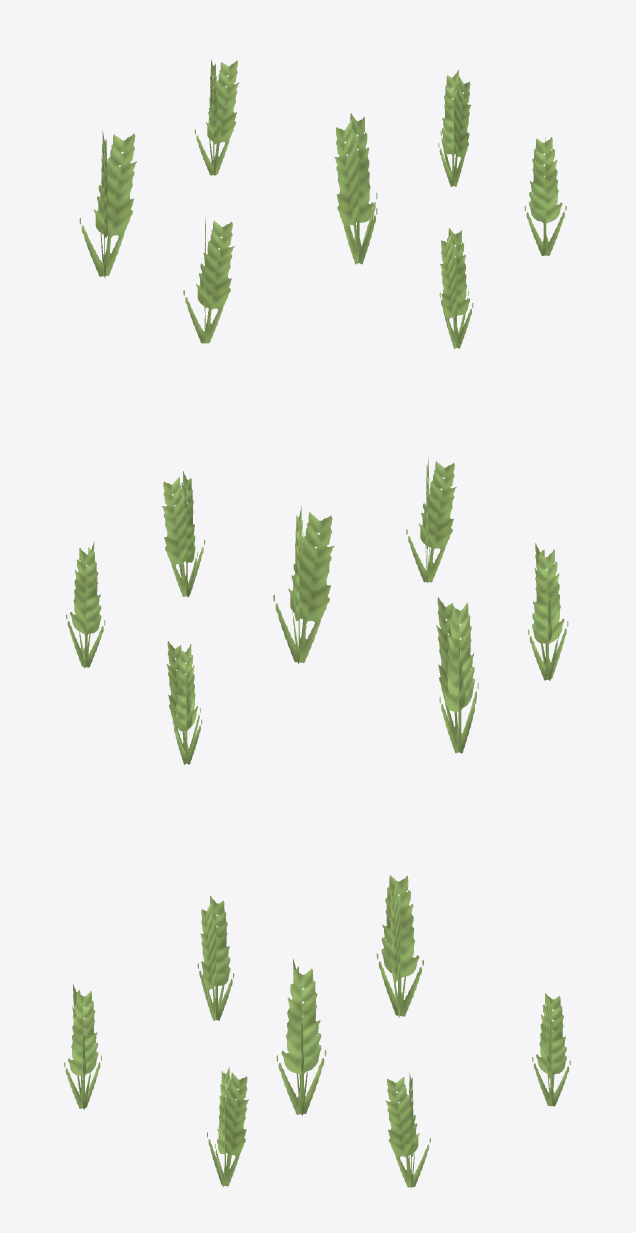
File: crop_carrot_1.glb
3 renders of one model, top to bottom at view 1: azimuth 30°, elevation 25°; view 2: azimuth 150°, elevation 25°; view 3: azimuth 270°, elevation 25°, orthographic. The views are drawn at different scales.
Visible parts, largest first — view 1: crop_carrot_1; view 2: crop_carrot_1; view 3: crop_carrot_1.
Boxes of the visible parts, left/top/right/bottom form: crop_carrot_1: left=79, top=59, right=566, bottom=348; crop_carrot_1: left=66, top=457, right=568, bottom=764; crop_carrot_1: left=64, top=875, right=570, bottom=1187.
Bounding box in the file's own units: 0.6771 × 0.2269 × 0.7336.
Materials: 1 (1 with a texture image).
